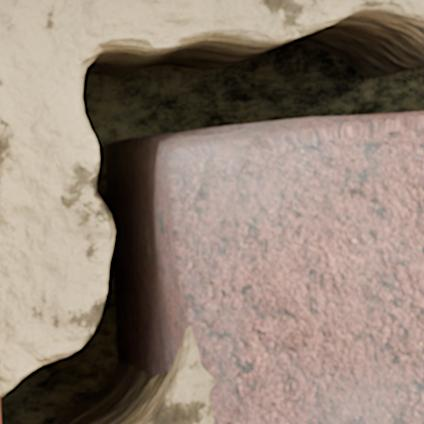brick: (165, 113, 423, 423)
crack: (0, 0, 423, 423)
